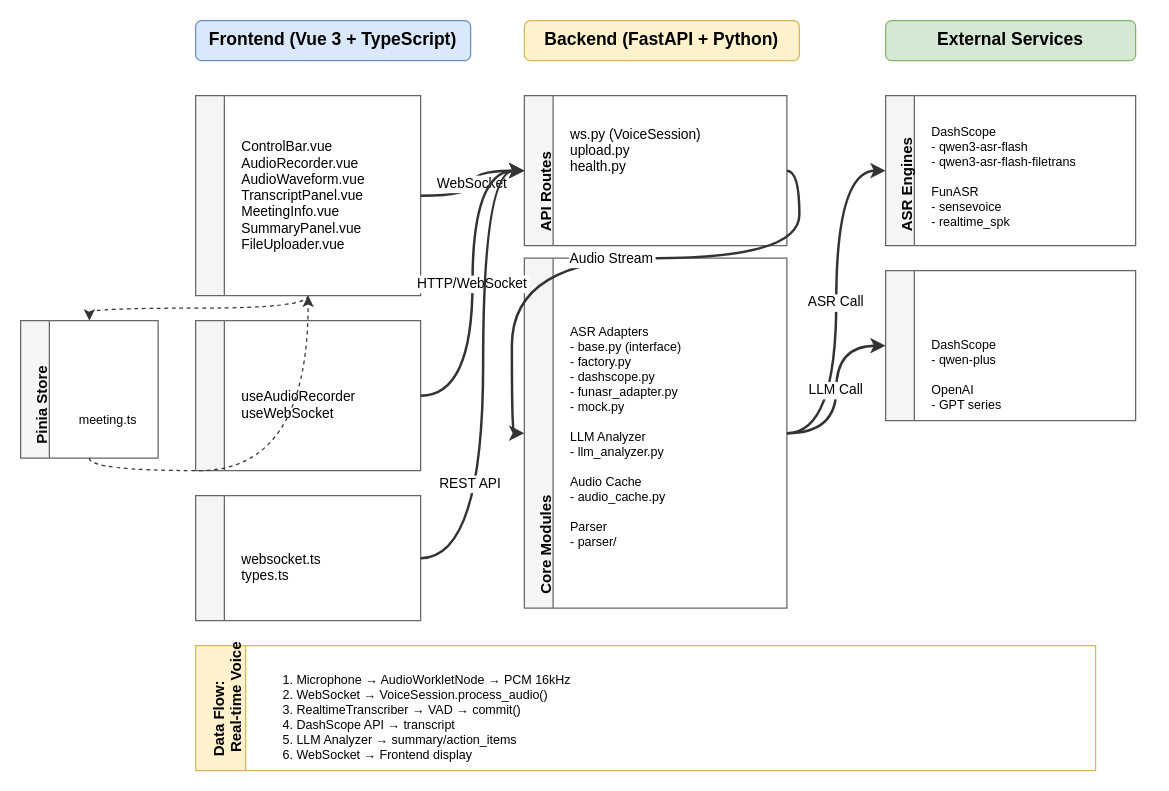
The diagram is 1169 pixels wide and 791 high, and some of its shapes have lost their labels. The box of each missing label's shape, as (x1, y1, x2, y2) in pixels:
API Layer: (194, 494, 421, 621)
Components: (194, 94, 421, 296)
Composables: (194, 319, 421, 471)
LLM Services: (884, 269, 1136, 421)
